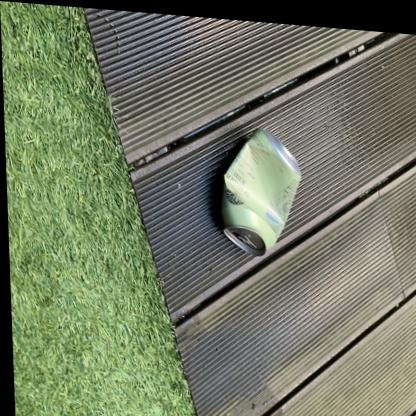trash: (222, 129, 300, 255)
